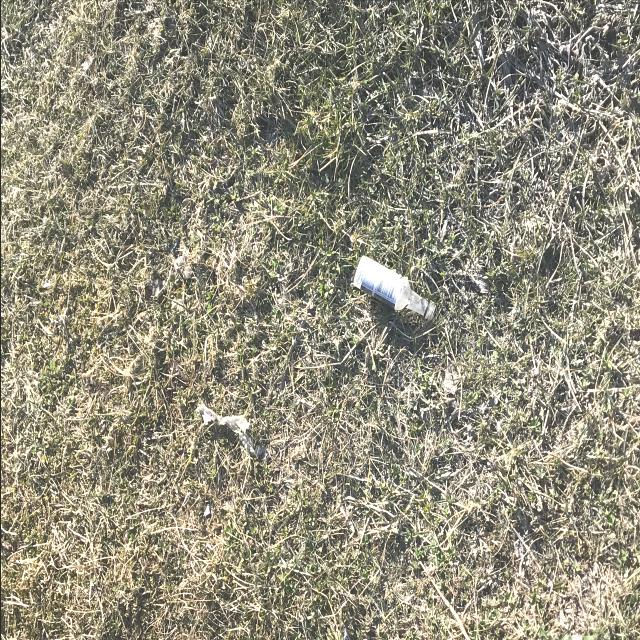Other plastic container: (352, 256, 435, 320)
Unlabeled litter: (193, 404, 266, 459)
